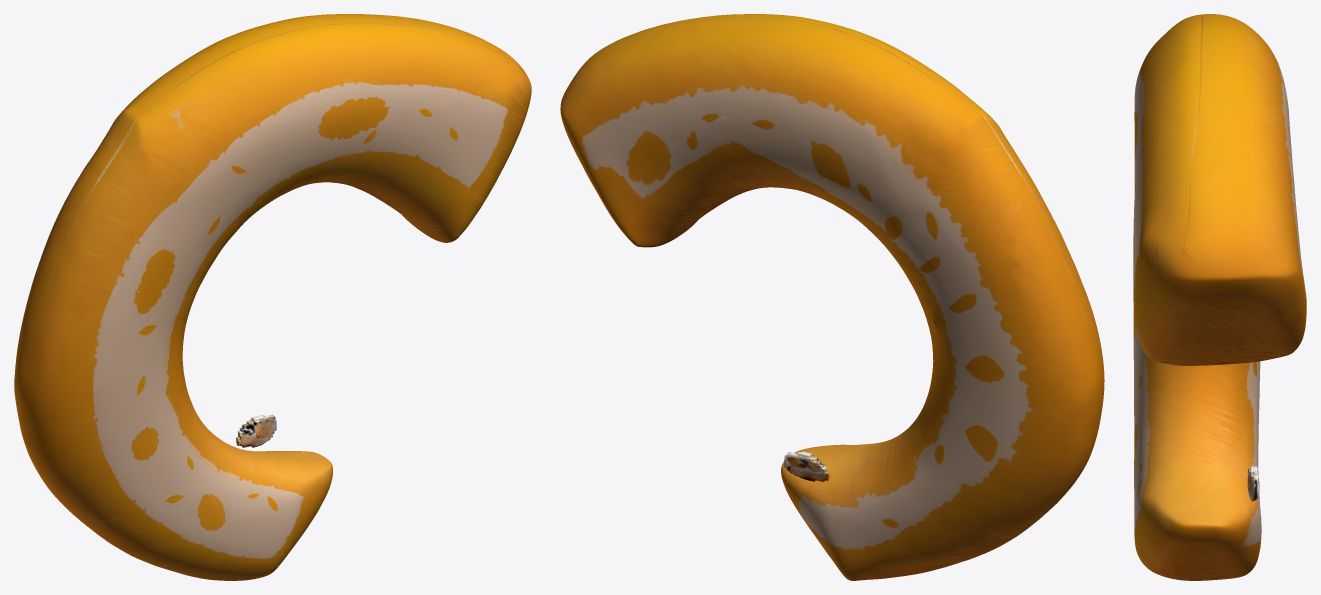
Rendered from base_basic_pbr.fbx.
3 views of the same model, side by side, from view 1: azimuth 30°, elevation 25°; view 2: azimuth 150°, elevation 25°; view 3: azimuth 270°, elevation 25° (orthographic). The views are drawn at different scales.
Visible parts, largest first — view 1: model; view 2: model; view 3: model.
Boxes of the visible parts, x1,y1,x2,y2 form: model: (14, 14, 531, 580); model: (560, 14, 1104, 580); model: (1133, 14, 1306, 580).
Bounding box in the file's own units: 169 × 167 × 46.81.
1 material, 1 textured.
